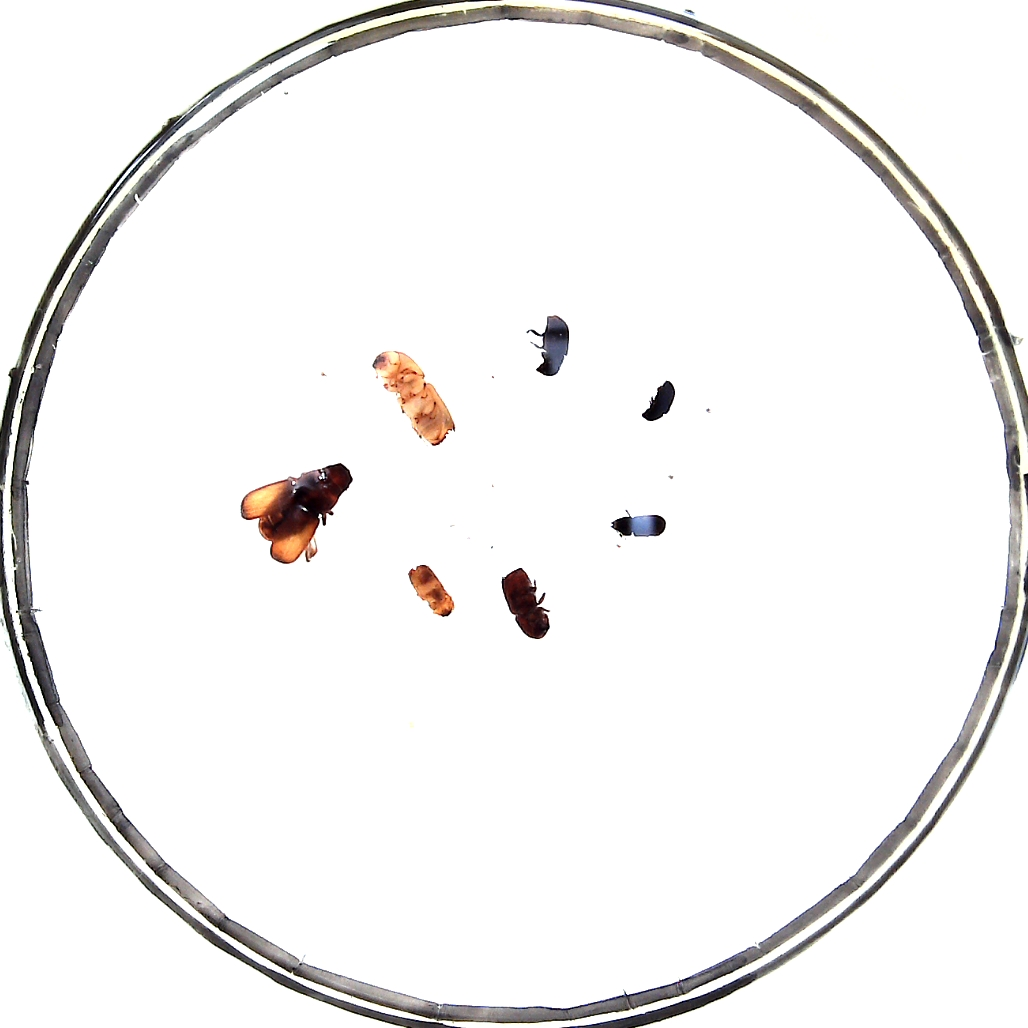Boerner: (373, 350, 452, 447)
Leconte: (242, 462, 352, 565)
Linnaeus: (500, 571, 552, 639)
acuminatus: (406, 565, 452, 615)
armandi: (534, 314, 570, 375)
coleoptera: (610, 512, 664, 541), (640, 383, 675, 421)
